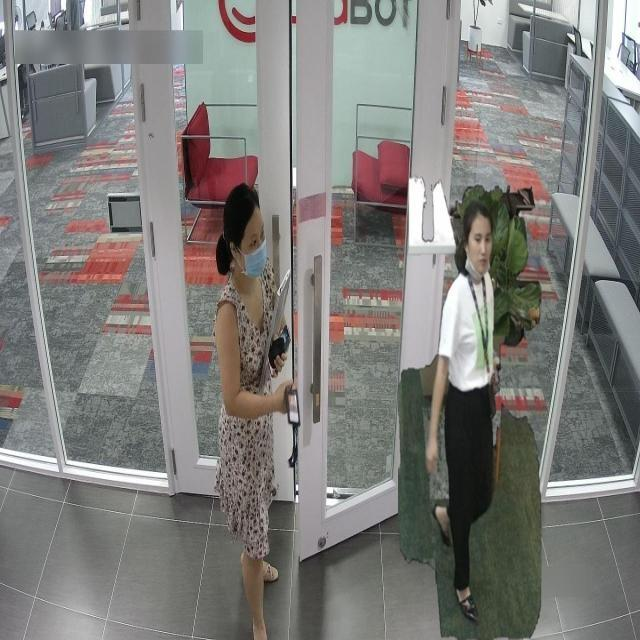hairnet: (464, 226, 492, 282)
